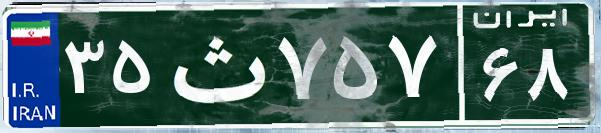3: (57, 26, 110, 107)
5: (330, 28, 385, 110), (110, 28, 158, 105)
6: (475, 38, 525, 113)
7: (385, 28, 445, 110), (273, 28, 330, 110)
8: (525, 38, 570, 115)
ث: (158, 15, 273, 115)
